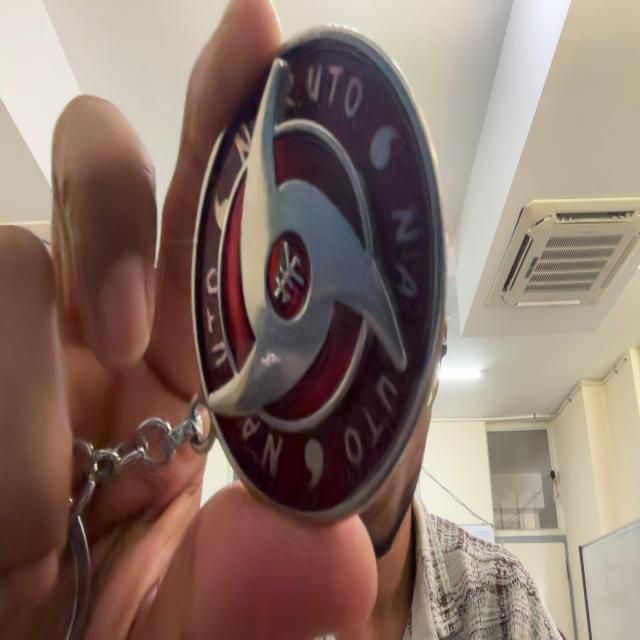dangerous: (65, 25, 445, 639)
